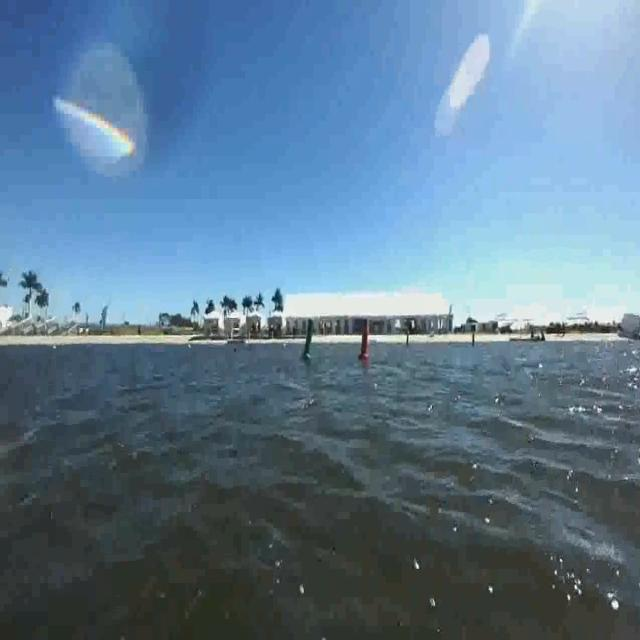green-column-buoy: (300, 320, 313, 360)
red-column-buoy: (358, 328, 371, 362)
